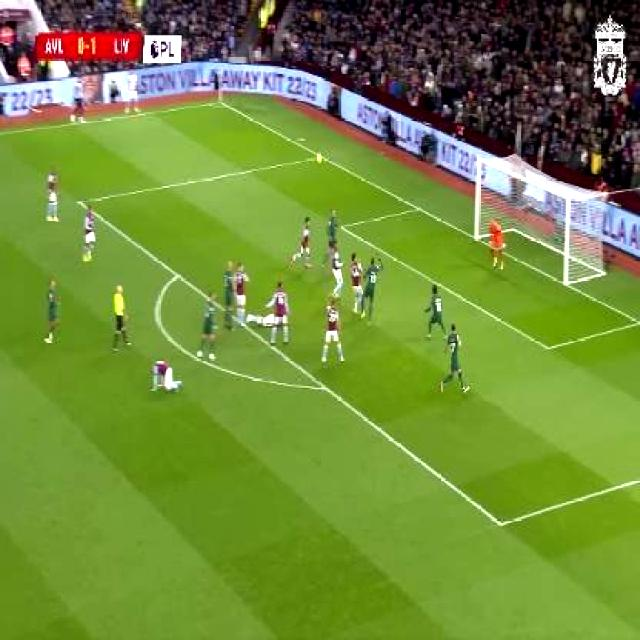bigarea_bottom_inner: (488, 504, 512, 542)
bigarea_top_inner: (71, 191, 86, 211)
bigarea_top_outter: (312, 148, 328, 164)
bottom_arc_area_intersection: (314, 374, 334, 400)
corner: (208, 94, 226, 108)
smallarea_bottom_inner: (536, 331, 558, 363)
smallarea_bottom_outter: (629, 306, 640, 336)
smallarea_top_inner: (334, 216, 349, 236)
smallarea_top_outter: (409, 197, 426, 218)
top_arc_area_intersection: (168, 264, 185, 284)
